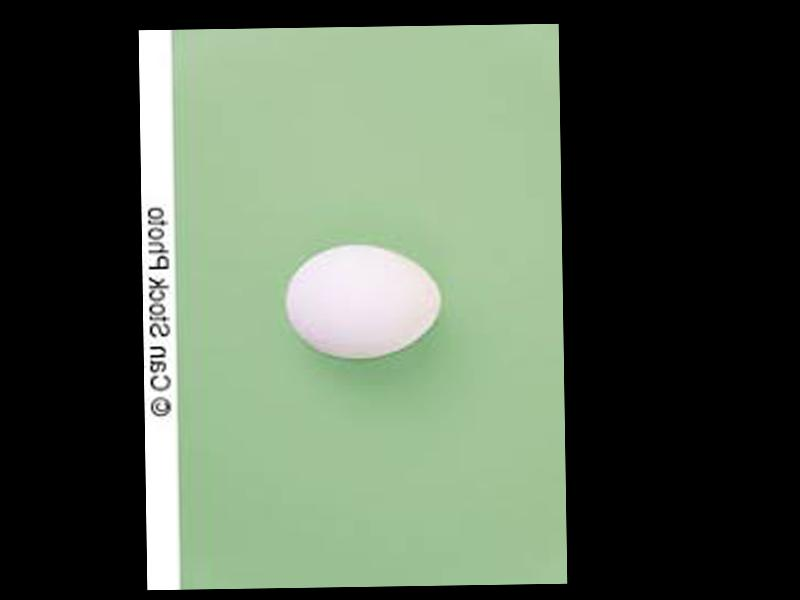Eggs: (286, 245, 441, 359)
